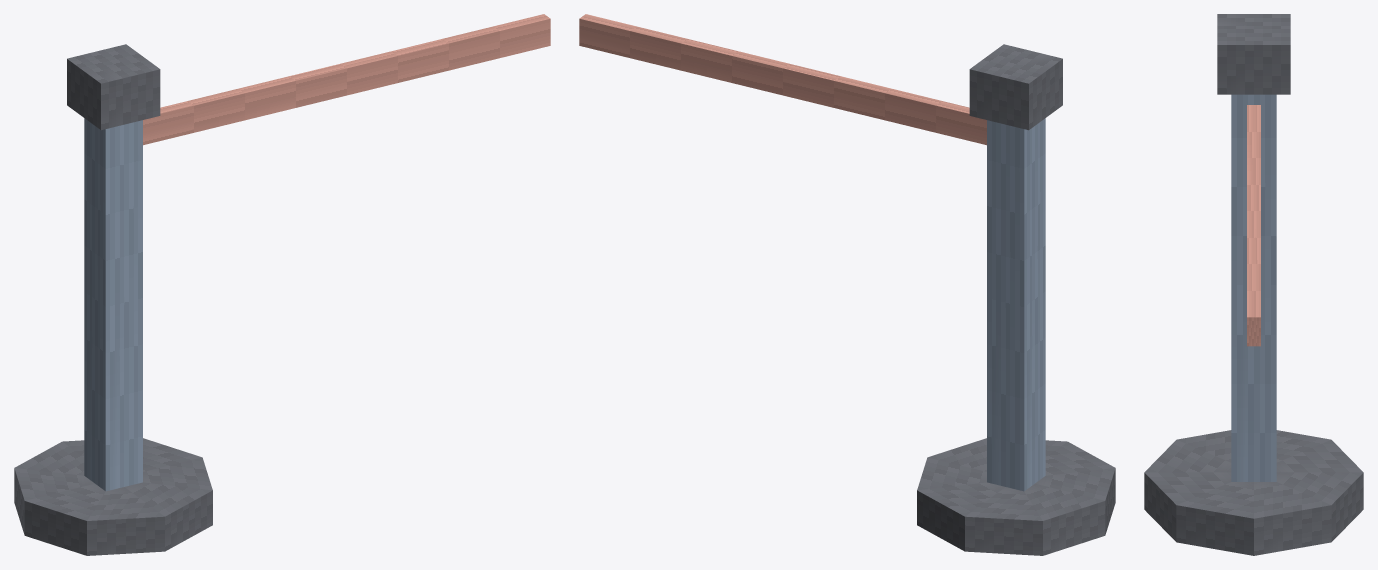
Rendered from pixel-modern-supermarket-queue-barrier-post-5a2705f9__28019.glb.
3 views of the same model, side by side, from view 1: azimuth 30°, elevation 25°; view 2: azimuth 150°, elevation 25°; view 3: azimuth 270°, elevation 25° (orthographic). The views are drawn at different scales.
Parts seen in each view (by area): view 1: queue-barrier-post; view 2: queue-barrier-post; view 3: queue-barrier-post.
Part boxes in pixels (x1,y1,x2,y2): queue-barrier-post: (14, 14, 550, 555); queue-barrier-post: (579, 14, 1115, 555); queue-barrier-post: (1144, 14, 1363, 555).
Bounding box in the file's own units: 1.41 × 1.16 × 0.4799.
Materials: 3 (3 with a texture image).
